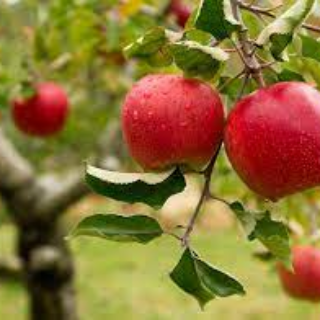tao: (118, 68, 226, 176)
